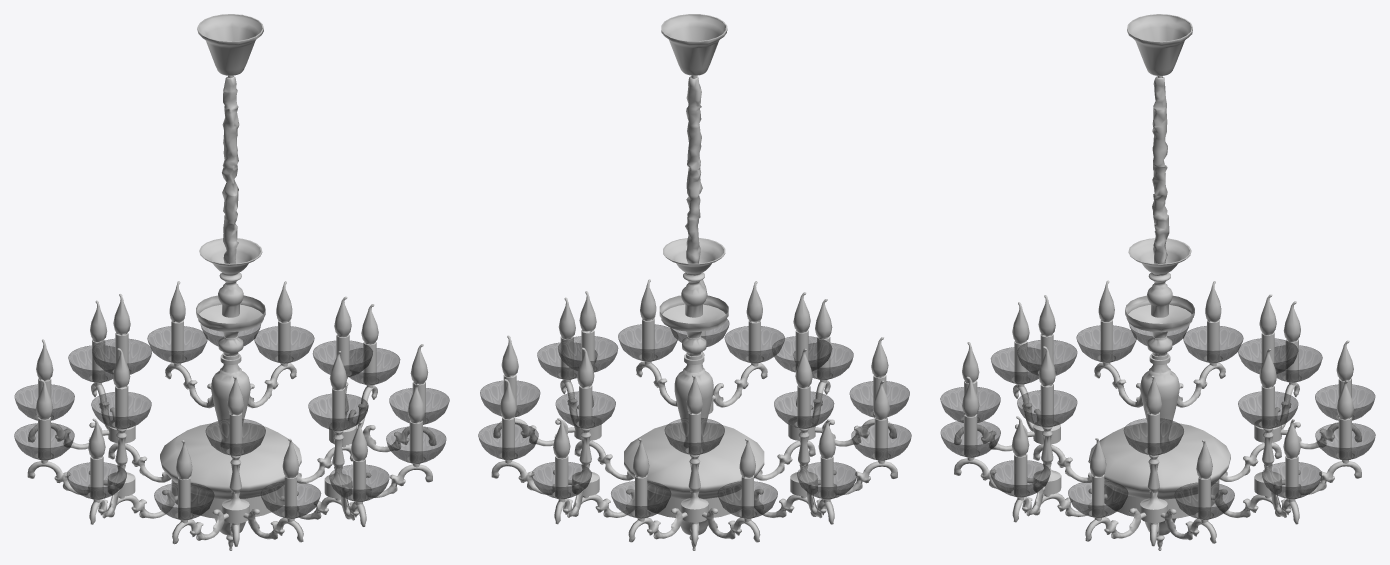
The model's file is Chandelier_03_1k.gltf.
3 renders of one model, left to right at view 1: azimuth 30°, elevation 25°; view 2: azimuth 150°, elevation 25°; view 3: azimuth 270°, elevation 25°, orthographic.
Parts seen in each view (by area): view 1: Chandelier_03; view 2: Chandelier_03; view 3: Chandelier_03.
Boxes of the visible parts, <box> form: Chandelier_03: <box>14,14,449,550</box>; Chandelier_03: <box>478,14,911,550</box>; Chandelier_03: <box>940,14,1375,550</box>.
Bounding box in the file's own units: 0.7804 × 1.04 × 0.7855.
